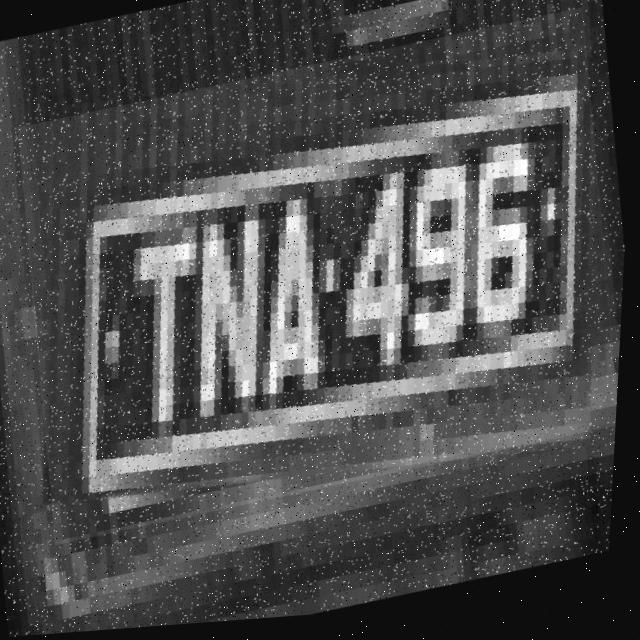LicensePlate: (3, 13, 638, 550)
